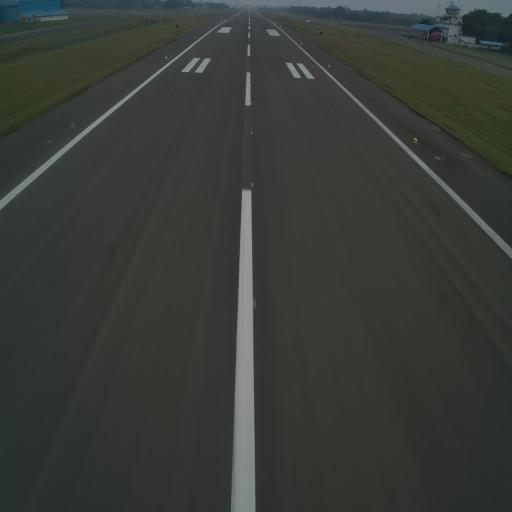off: (249, 60, 252, 64), (250, 70, 252, 74)
on: (412, 135, 420, 147), (252, 294, 256, 312), (248, 126, 254, 137), (249, 180, 255, 190), (70, 120, 76, 128), (249, 81, 254, 89), (163, 53, 168, 61), (248, 101, 253, 108), (328, 64, 333, 70)
